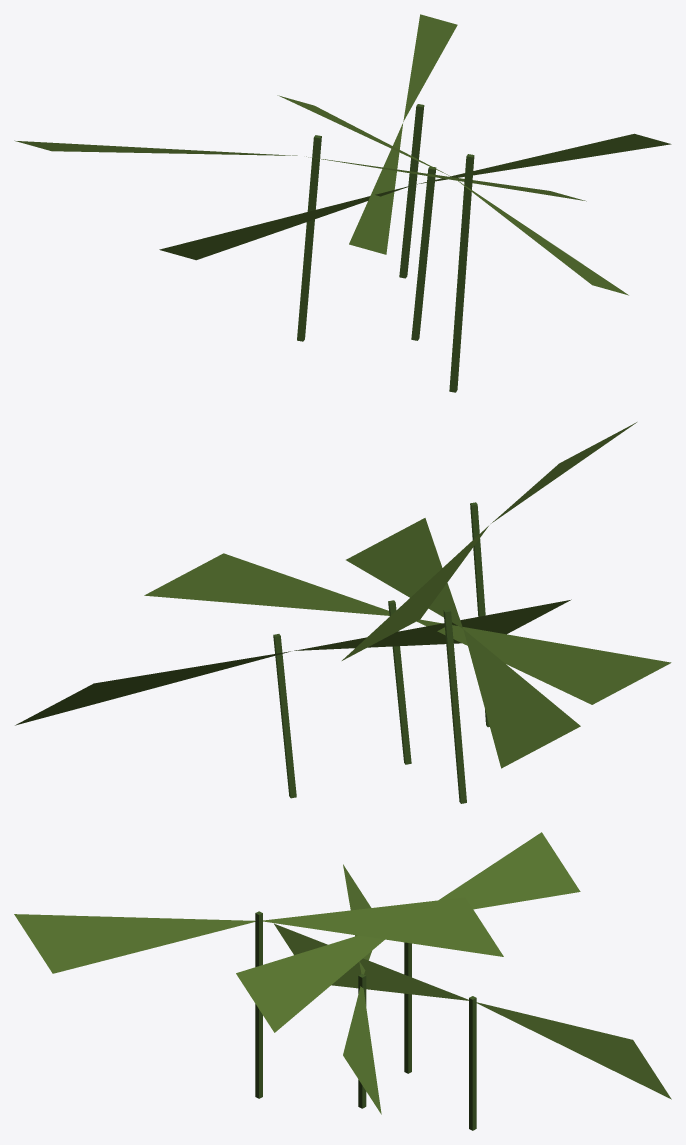
The model's file is nipa-far.glb.
3 renders of one model, top to bottom at view 1: azimuth 30°, elevation 25°; view 2: azimuth 150°, elevation 25°; view 3: azimuth 270°, elevation 25°, orthographic. The views are drawn at different scales.
Parts seen in each view (by area): view 1: nipa-far; view 2: nipa-far; view 3: nipa-far.
Part boxes in pixels (<box>): nipa-far: <box>14,14,671,392</box>; nipa-far: <box>15,422,671,803</box>; nipa-far: <box>14,832,671,1130</box>.
Size of the model in its own units: 3.3 by 1.3 by 4.07.
